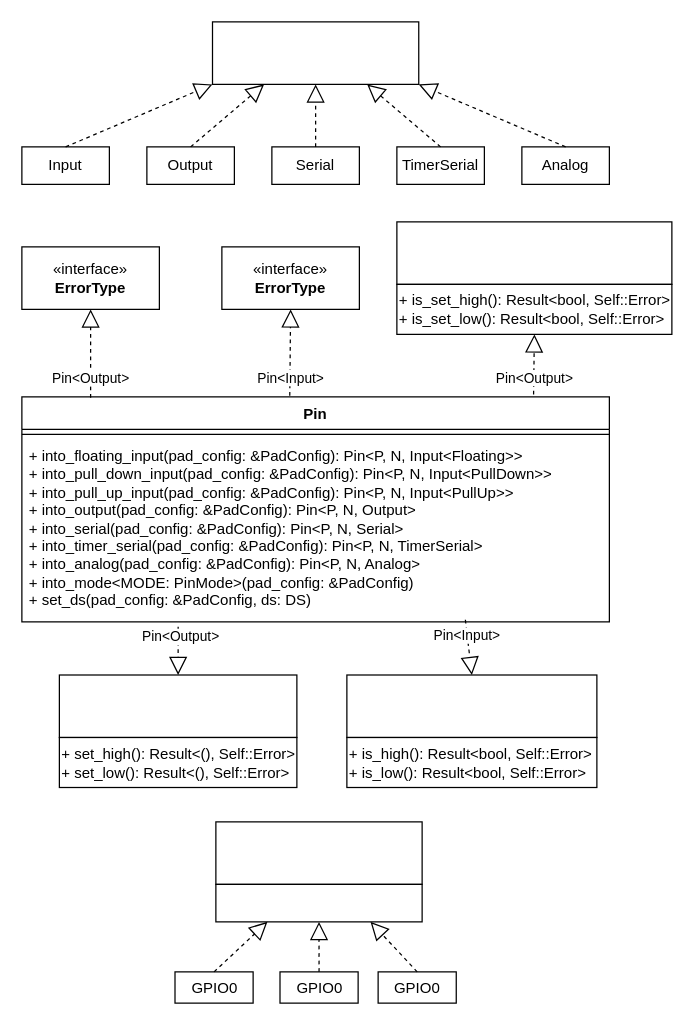
This 694x1025 diagram has some shape labels left out. Here are the shapes that lost their labels. From the top down, the centre of each, then its label:
At pixel 315 52: "«interface» PinMode".
At pixel 534 252: "«interface» StatefulOutputPin".
At pixel 177 706: "«interface» OutputPin".
At pixel 471 706: "«interface» InputPin".
At pixel 318 852: "«interface» GpioExt".
At pixel 318 902: "+ split(): Self::Parts".
